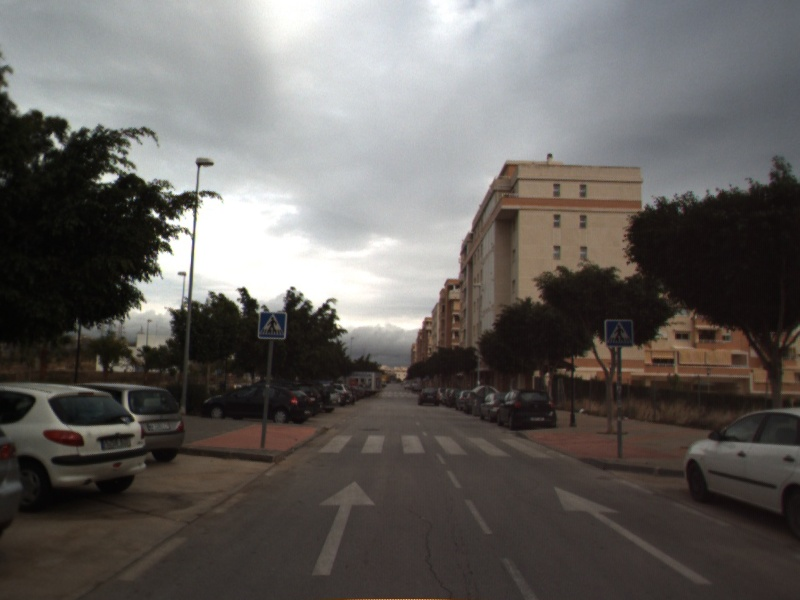STRAIGHT: (553, 485, 715, 586), (310, 478, 378, 578)
